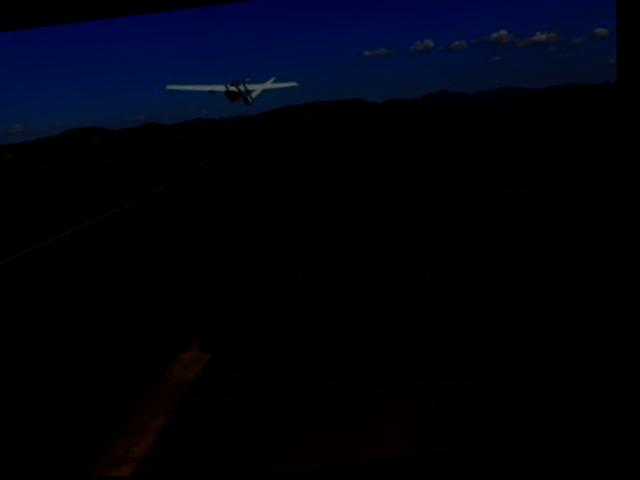uav: (159, 59, 313, 123)
